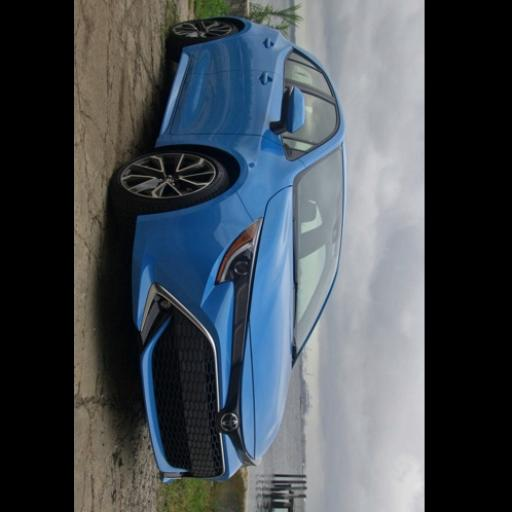hatchback: (110, 16, 345, 483)
